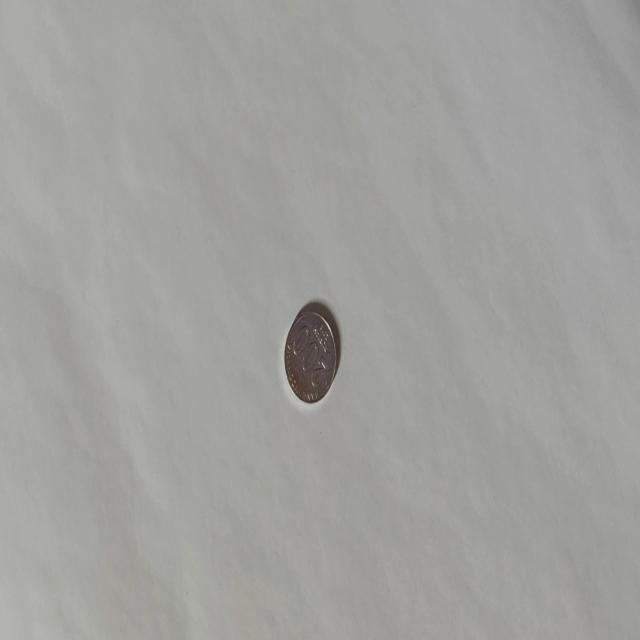dua ratus rupiah: (283, 308, 337, 404)
